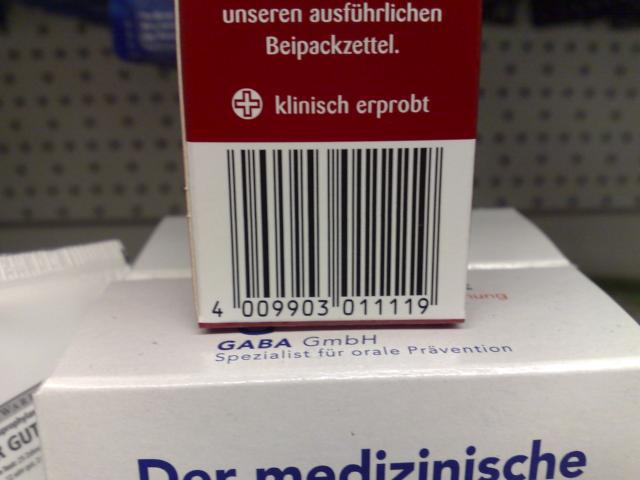Barkod: (224, 147, 444, 297)
